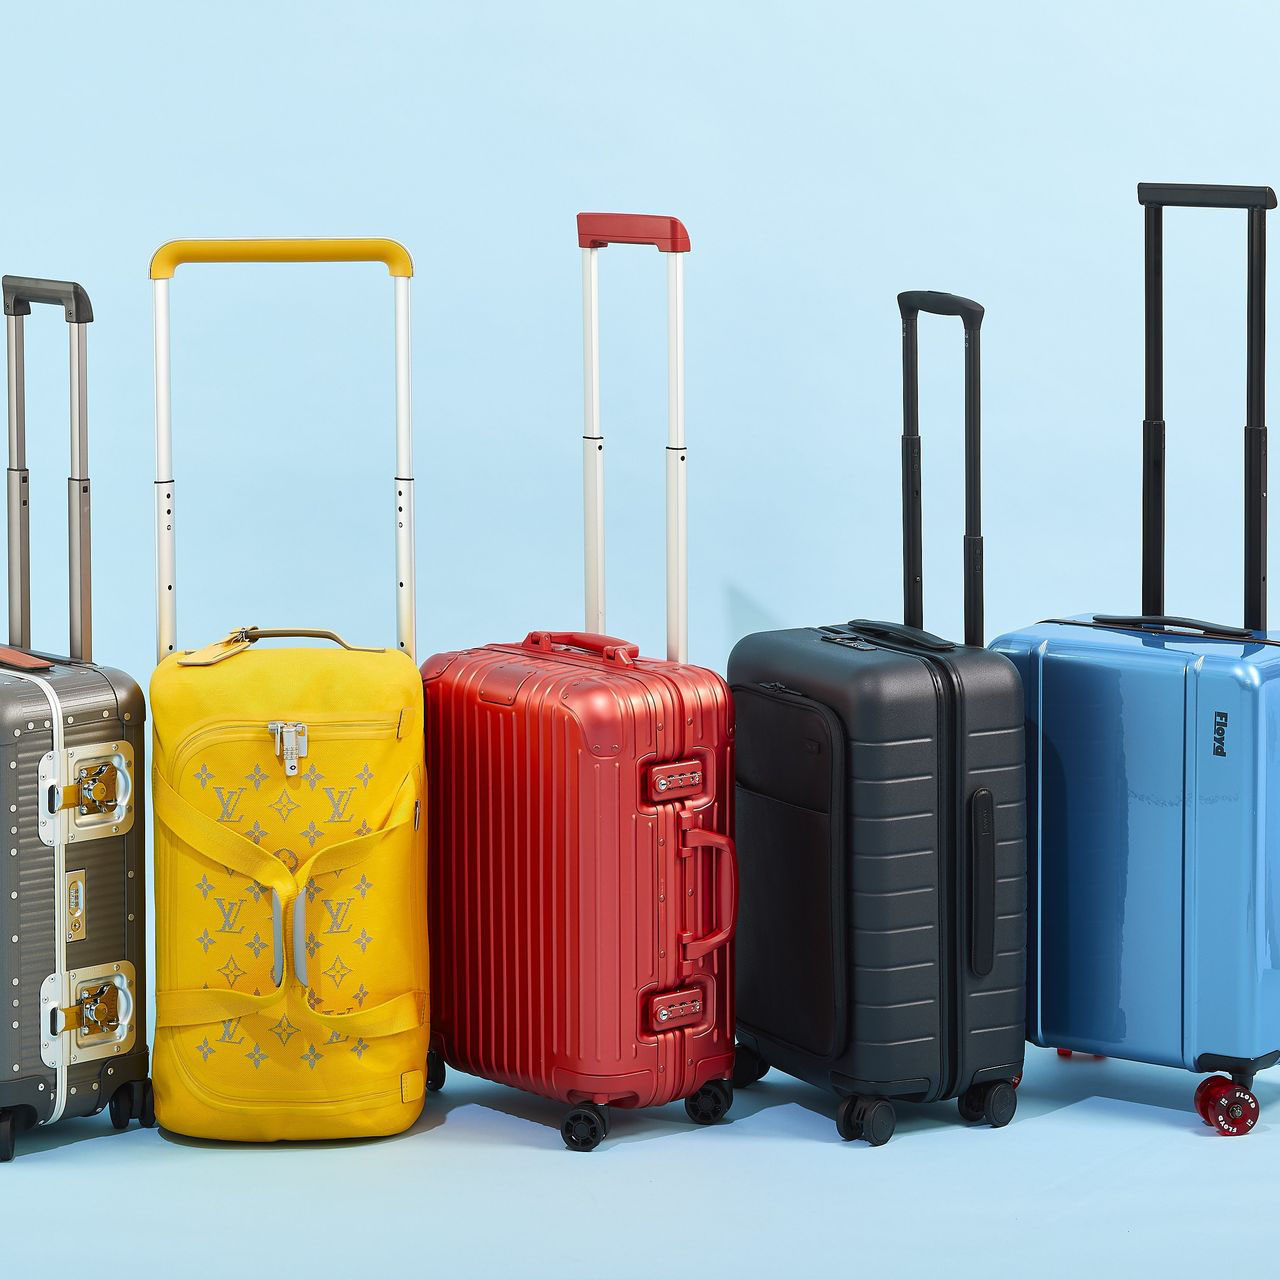luggage: (427, 203, 743, 1149), (989, 159, 1280, 1145), (139, 227, 435, 1160), (726, 275, 1036, 1156), (1, 268, 155, 1152)
